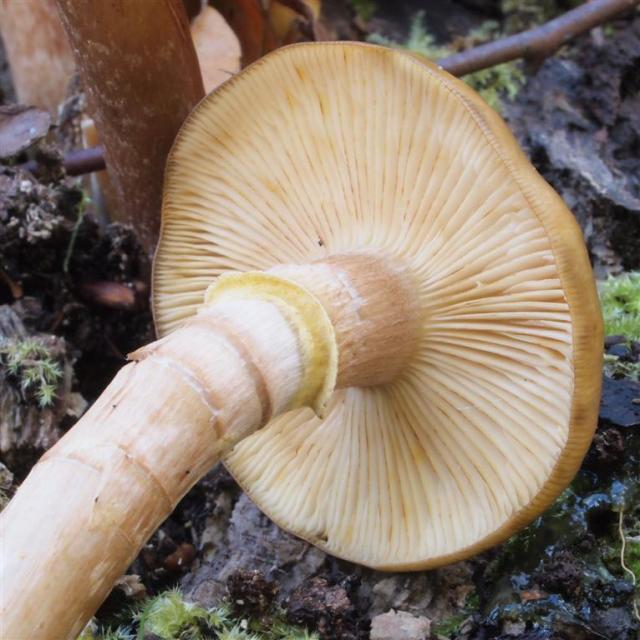Armillaria mellea: (10, 43, 604, 640)
